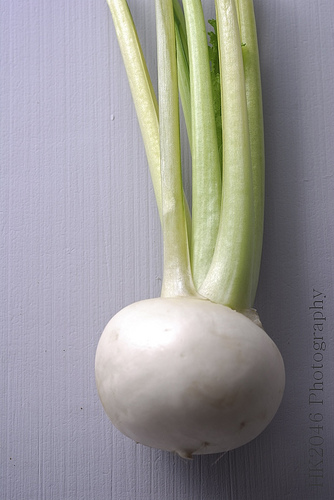turnip: (92, 0, 286, 460)
